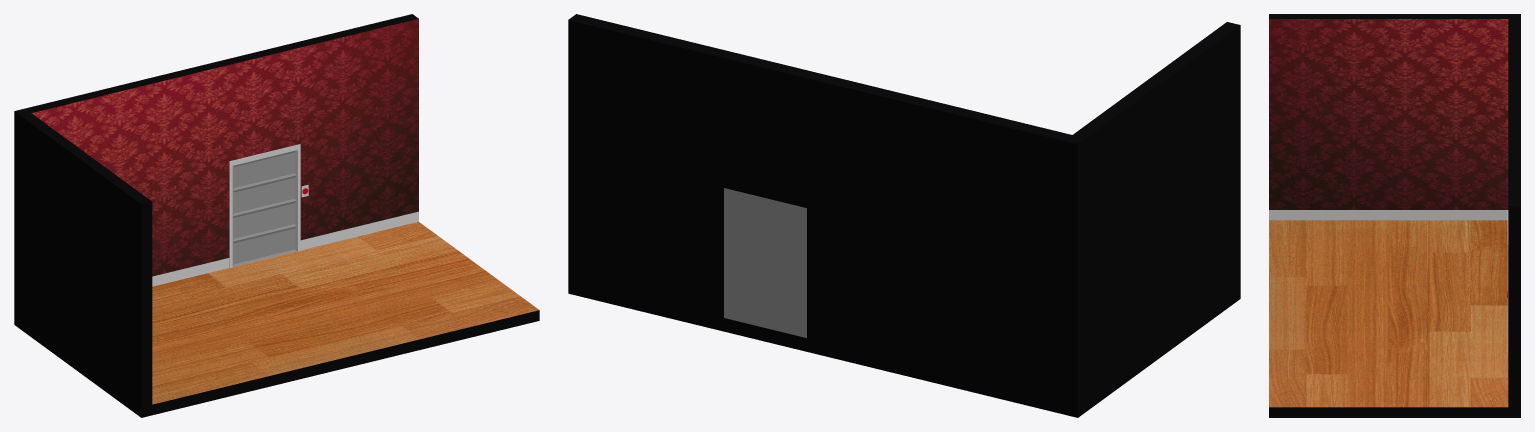
File: BedroomBaseC.glb
3 views of the same model, side by side, from view 1: azimuth 30°, elevation 25°; view 2: azimuth 150°, elevation 25°; view 3: azimuth 270°, elevation 25° (orthographic). The views are drawn at different scales.
Parts seen in each view (by area): view 1: Room, Door; view 2: Room, Door; view 3: Room.
Part boxes in pixels (left/top/right/bottom): Room: left=14, top=14, right=539, bottom=417; Door: left=232, top=150, right=296, bottom=266; Room: left=568, top=14, right=1240, bottom=417; Door: left=724, top=188, right=806, bottom=337; Room: left=1269, top=14, right=1520, bottom=417.
Bounding box in the file's own units: 3.73 × 1.91 × 2.06.
7 materials, 2 textured.
